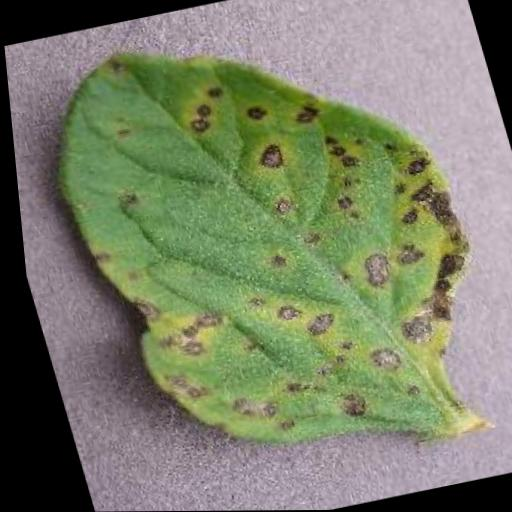Septoria: (24, 0, 512, 492)
